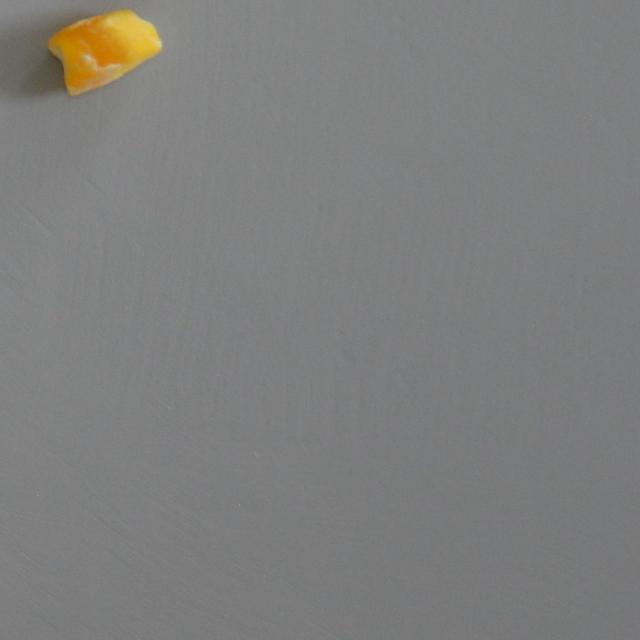pelicula: (46, 8, 162, 98)
